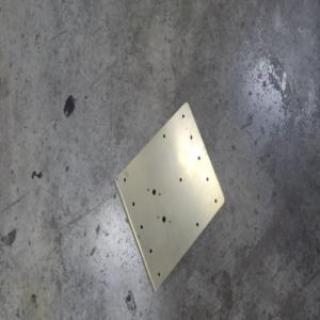MetalSheettrack_idkeyframe: (112, 100, 225, 294)
